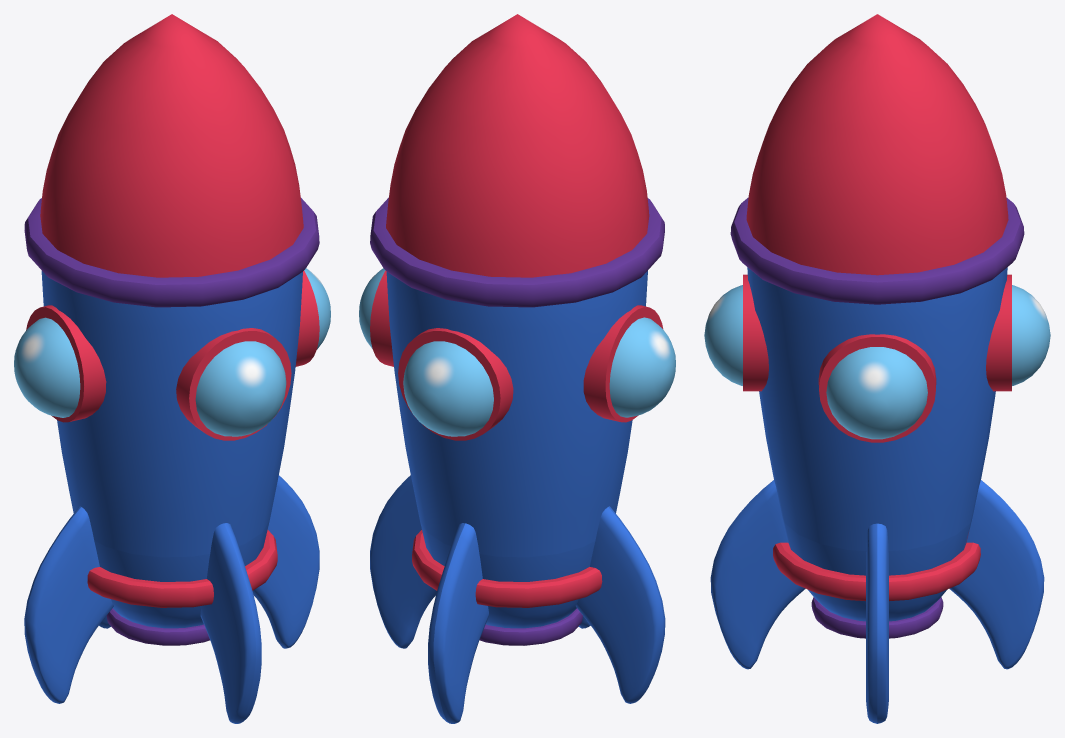
The model's file is uploads_files_3409670_Cartoon+Space+Rocket.fbx.
The picture shows the model from 3 angles, left to right: view 1: azimuth 30°, elevation 25°; view 2: azimuth 150°, elevation 25°; view 3: azimuth 270°, elevation 25°; orthographic projection.
Parts seen in each view (by area): view 1: Space_Rocket; view 2: Space_Rocket; view 3: Space_Rocket.
Boxes of the visible parts, box(x1,y1,x2,y2) form: Space_Rocket: box(14, 14, 330, 723); Space_Rocket: box(359, 14, 675, 723); Space_Rocket: box(704, 14, 1050, 723).
Size of the model in its own units: 2.85 by 5.94 by 2.85.
1 material, 1 textured.
